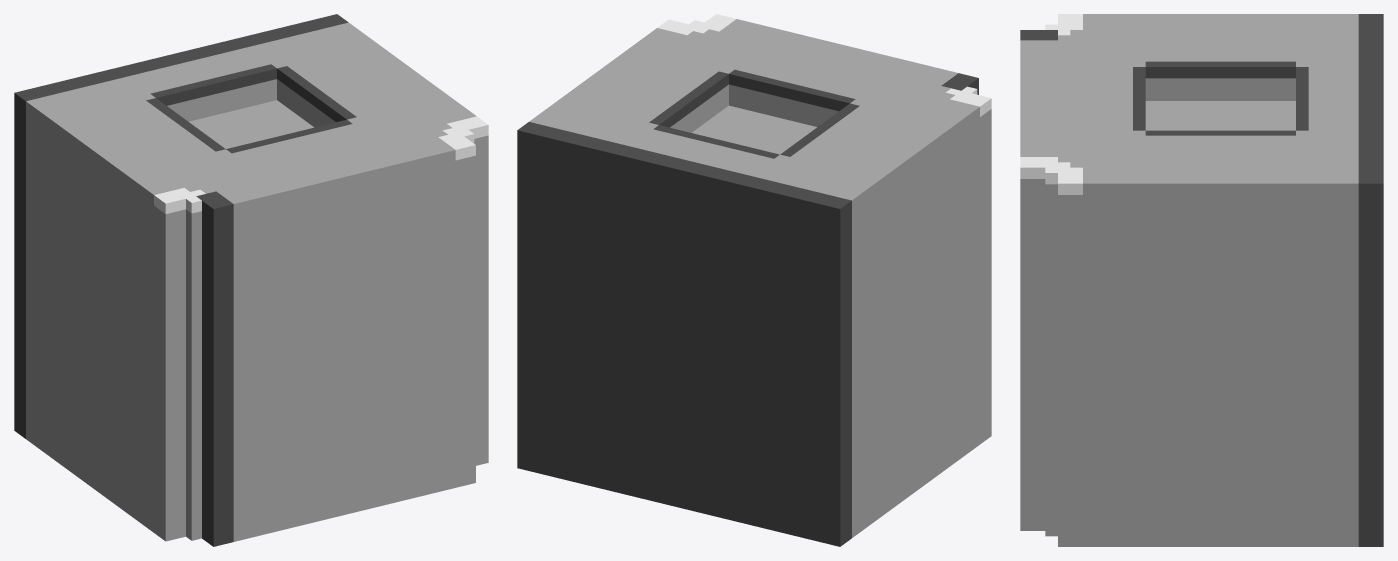
Rendered from 3JointN.obj.
3 views of the same model, side by side, from view 1: azimuth 30°, elevation 25°; view 2: azimuth 150°, elevation 25°; view 3: azimuth 270°, elevation 25° (orthographic). The views are drawn at different scales.
Bounding box in the file's own units: 32 × 32 × 29.
Materials: 1 (1 with a texture image).
